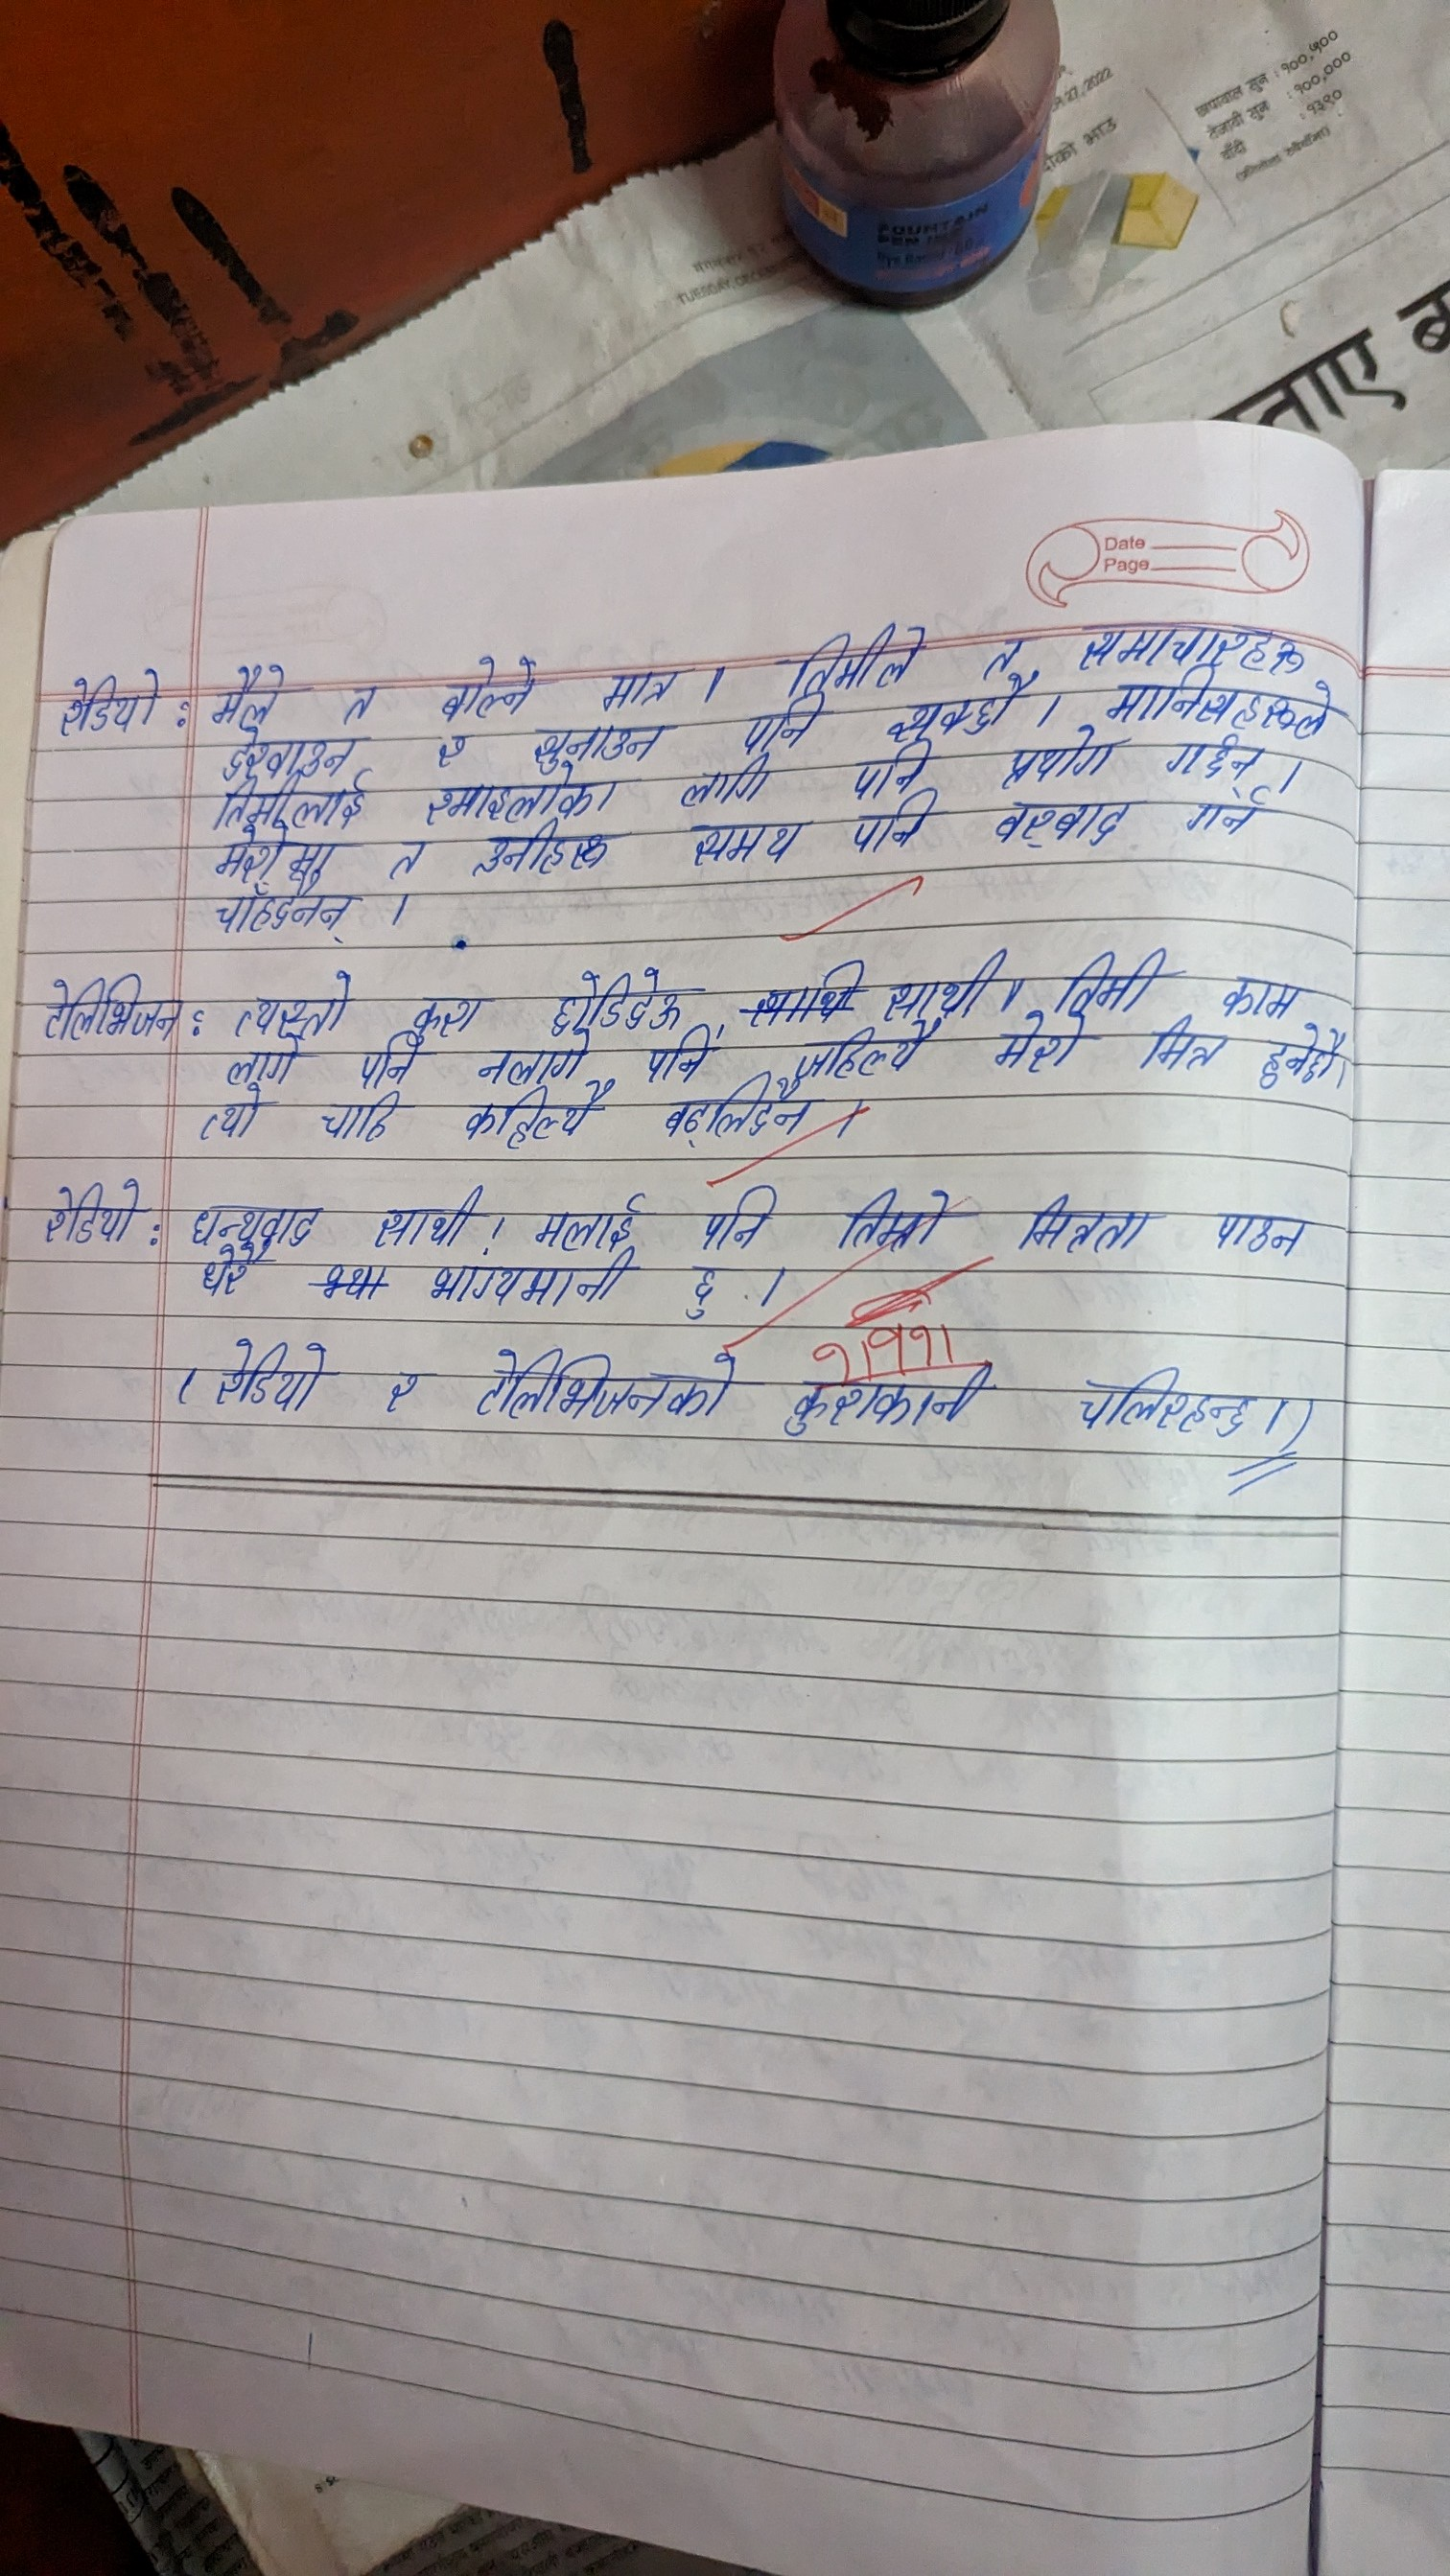text: (471, 1343, 742, 1438), (1061, 1359, 1278, 1454), (781, 1366, 993, 1456), (1066, 616, 1340, 674), (421, 1251, 630, 1318), (1101, 678, 1333, 731), (30, 973, 191, 1047), (657, 1088, 834, 1152), (462, 1086, 609, 1161), (414, 771, 625, 823), (207, 1338, 336, 1421), (770, 625, 935, 688), (981, 796, 1149, 856), (1006, 1189, 1156, 1256), (791, 1019, 951, 1081), (1202, 1196, 1328, 1270), (542, 968, 696, 1028), (880, 943, 1006, 1016), (53, 671, 174, 745), (834, 1184, 961, 1253), (221, 968, 356, 1031), (1050, 943, 1168, 1012), (211, 883, 361, 936), (205, 780, 368, 828), (32, 1182, 145, 1249), (179, 1194, 331, 1244), (471, 828, 614, 879), (526, 1189, 648, 1249), (370, 1184, 480, 1249), (883, 694, 1027, 740), (522, 722, 669, 766), (439, 656, 544, 718), (221, 731, 363, 775), (995, 1017, 1092, 1081), (1153, 731, 1273, 782), (209, 830, 342, 876), (687, 821, 806, 872), (1257, 1023, 1340, 1095), (999, 743, 1130, 789), (692, 1184, 781, 1251), (731, 695, 830, 754), (1133, 1021, 1232, 1079), (182, 1090, 278, 1150), (848, 803, 940, 865), (1183, 789, 1280, 847), (471, 1039, 598, 1083), (676, 759, 786, 810), (1211, 962, 1307, 1017), (204, 665, 289, 725), (317, 1097, 420, 1146), (193, 1247, 276, 1307), (846, 747, 938, 798), (590, 662, 683, 711), (223, 1037, 308, 1088), (407, 989, 490, 1035), (641, 1031, 712, 1085), (370, 1368, 434, 1424), (352, 1040, 420, 1090), (680, 1263, 722, 1329), (976, 625, 1032, 672), (430, 729, 480, 771), (384, 837, 434, 879), (338, 674, 379, 724)
